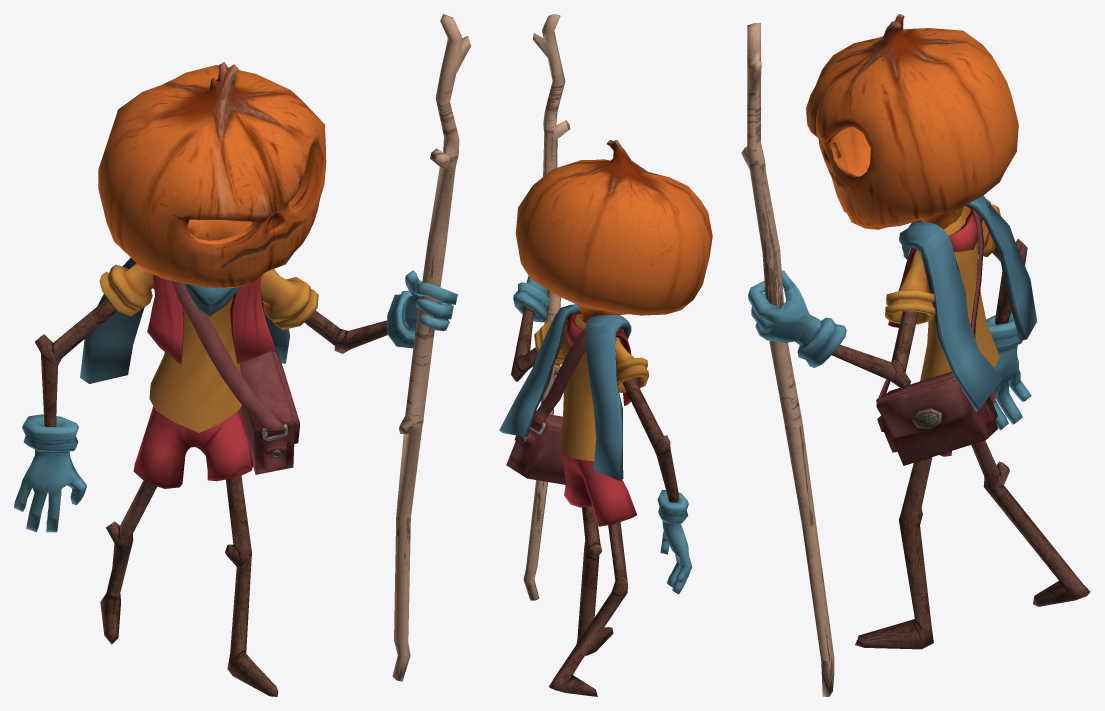
File: mage-transformed.glb
The picture shows the model from 3 angles, left to right: view 1: azimuth 30°, elevation 25°; view 2: azimuth 150°, elevation 25°; view 3: azimuth 270°, elevation 25°; orthographic projection. The views are drawn at different scales.
Visible parts, largest first — view 1: head_head_0, wood_wood_0, clothing2_clothing2_0, clothing1_clothing1_0, briefcase_briefcase_0; view 2: head_head_0, wood_wood_0, clothing1_clothing1_0, clothing2_clothing2_0, briefcase_briefcase_0; view 3: head_head_0, wood_wood_0, clothing1_clothing1_0, briefcase_briefcase_0, clothing2_clothing2_0.
Part boxes in pixels (x1,y1,x2,y2): head_head_0: [98, 62, 326, 287]; wood_wood_0: [35, 14, 470, 696]; clothing2_clothing2_0: [14, 270, 457, 532]; clothing1_clothing1_0: [80, 257, 318, 432]; briefcase_briefcase_0: [172, 281, 299, 474]; head_head_0: [515, 140, 712, 322]; wood_wood_0: [511, 14, 679, 696]; clothing1_clothing1_0: [499, 304, 648, 480]; clothing2_clothing2_0: [513, 276, 692, 594]; briefcase_briefcase_0: [506, 327, 627, 484]; head_head_0: [806, 14, 1018, 229]; wood_wood_0: [741, 23, 1090, 696]; clothing1_clothing1_0: [885, 195, 1037, 411]; briefcase_briefcase_0: [876, 209, 997, 465]; clothing2_clothing2_0: [748, 209, 1031, 456].
Bounding box in the file's own units: 0.735 × 1.49 × 0.6936.
Materials: 5 (5 with a texture image).
